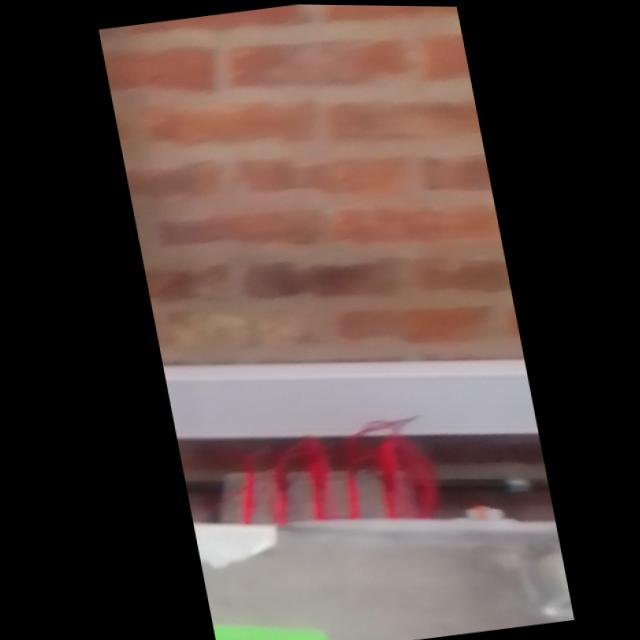greenBox: (200, 578, 332, 640)
